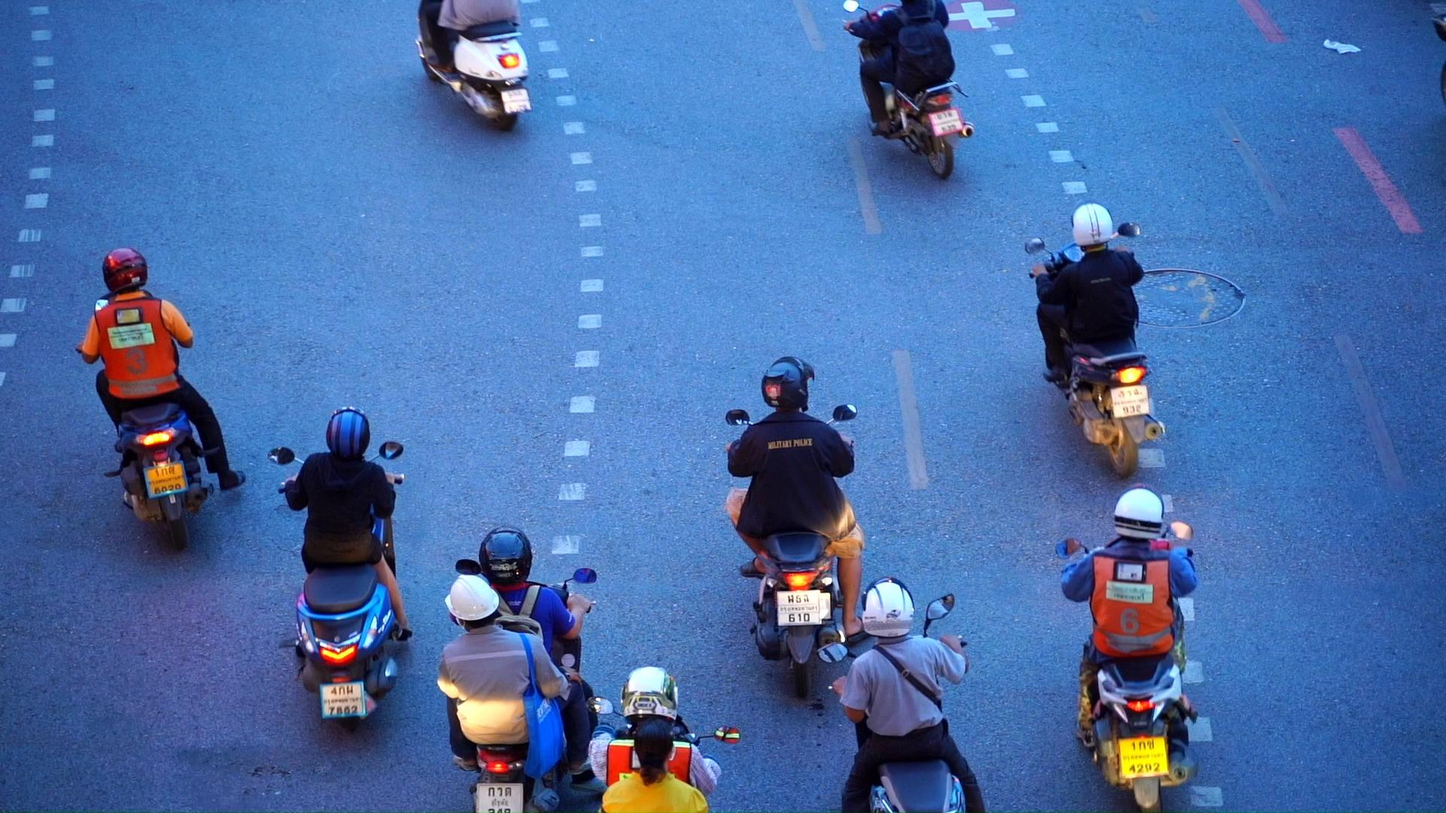driver: (724, 356, 877, 700), (76, 246, 246, 549), (435, 526, 608, 813), (1054, 483, 1200, 813), (267, 406, 414, 731), (1023, 199, 1167, 481), (818, 577, 987, 813), (842, 0, 976, 181), (585, 666, 740, 813), (415, 0, 532, 133)
helmet: (620, 666, 679, 725), (860, 577, 915, 639), (479, 526, 533, 586), (445, 574, 499, 632), (761, 356, 815, 412), (1114, 483, 1165, 542), (326, 405, 370, 461), (1071, 199, 1114, 252), (102, 246, 148, 295)
no-helmet: (634, 718, 676, 787)
